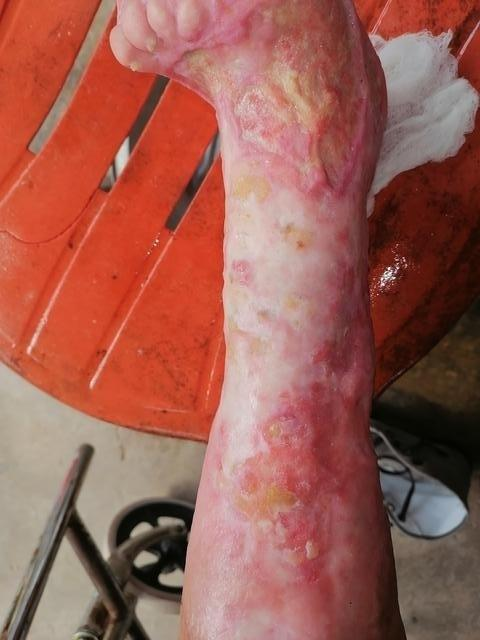wound: (215, 251, 374, 602), (166, 0, 370, 198), (226, 258, 258, 287)
